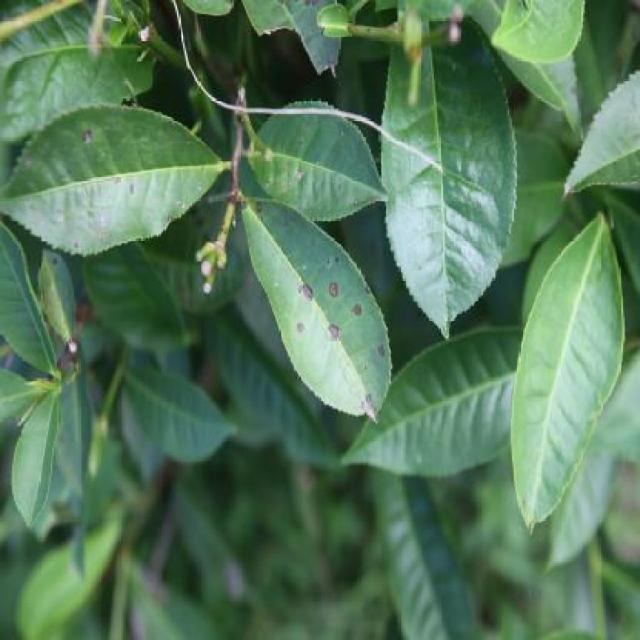Tea Mosquito bug infested leaf: (222, 203, 408, 414)
